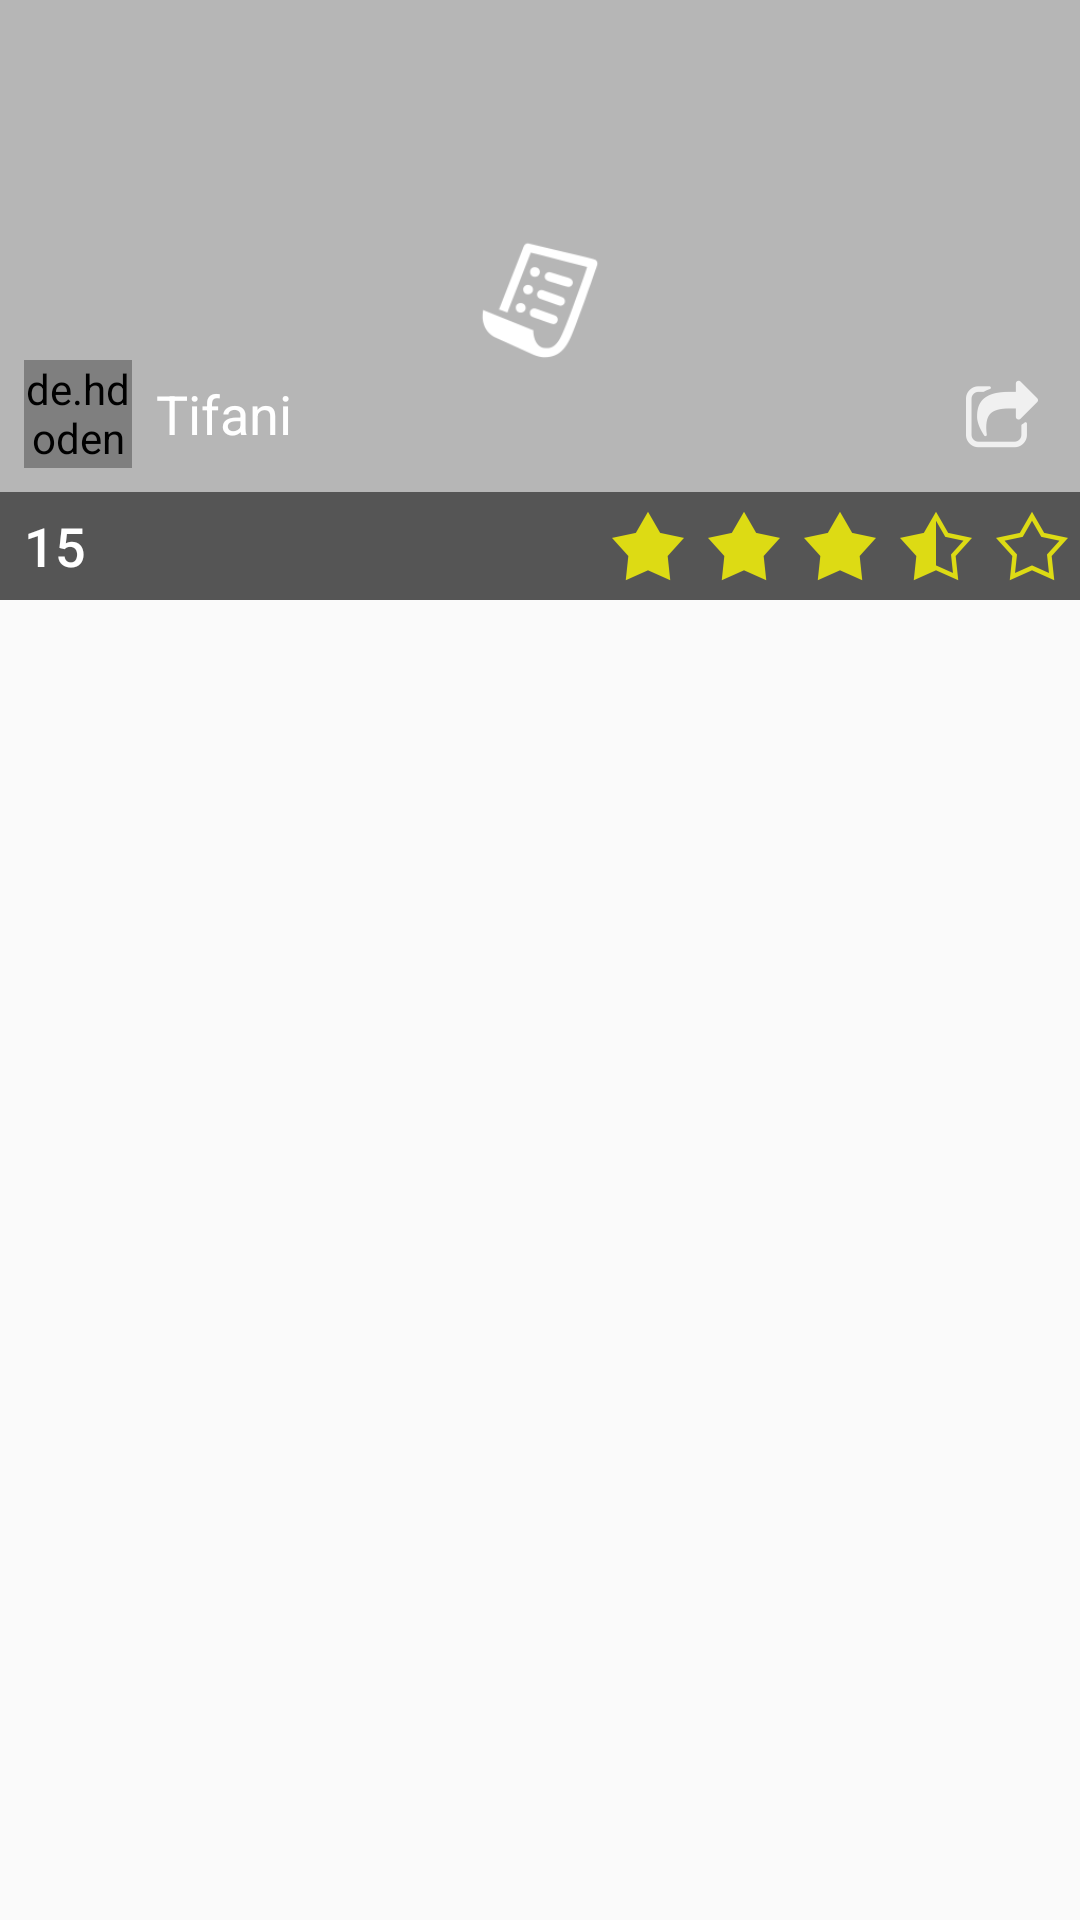

Locate icon controls on the screen. Image size 1080px x 1920px, boxes as {"x1": x1, "y1": y1, "x2": x2, "y2": y2}.
empty star: {"x1": 996, "y1": 512, "x2": 1068, "y2": 580}
full star: {"x1": 612, "y1": 512, "x2": 684, "y2": 580}, {"x1": 708, "y1": 512, "x2": 780, "y2": 580}, {"x1": 804, "y1": 512, "x2": 876, "y2": 580}
half star: {"x1": 900, "y1": 512, "x2": 972, "y2": 580}
share: {"x1": 966, "y1": 381, "x2": 1038, "y2": 447}
